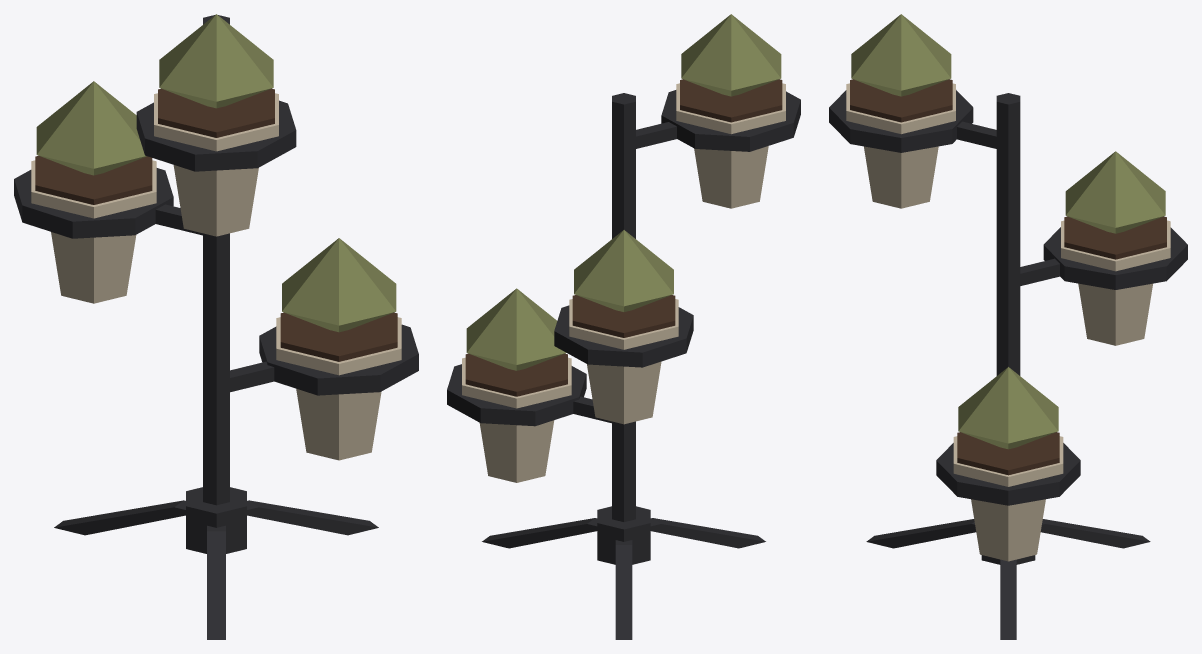
The model's file is FN_Stand_Plant.glb.
The picture shows the model from 3 angles, left to right: view 1: azimuth 30°, elevation 25°; view 2: azimuth 150°, elevation 25°; view 3: azimuth 270°, elevation 25°; orthographic projection. The views are drawn at different scales.
Parts seen in each view (by area): view 1: FN_Stand_Plant; view 2: FN_Stand_Plant; view 3: FN_Stand_Plant.
Part boxes in pixels (box(x1,y1,x2,y2)): FN_Stand_Plant: box(14, 14, 418, 639); FN_Stand_Plant: box(447, 14, 800, 639); FN_Stand_Plant: box(829, 14, 1187, 639).
Size of the model in its own units: 0.48 by 0.854 by 0.5218.
Materials: 1 (1 with a texture image).
